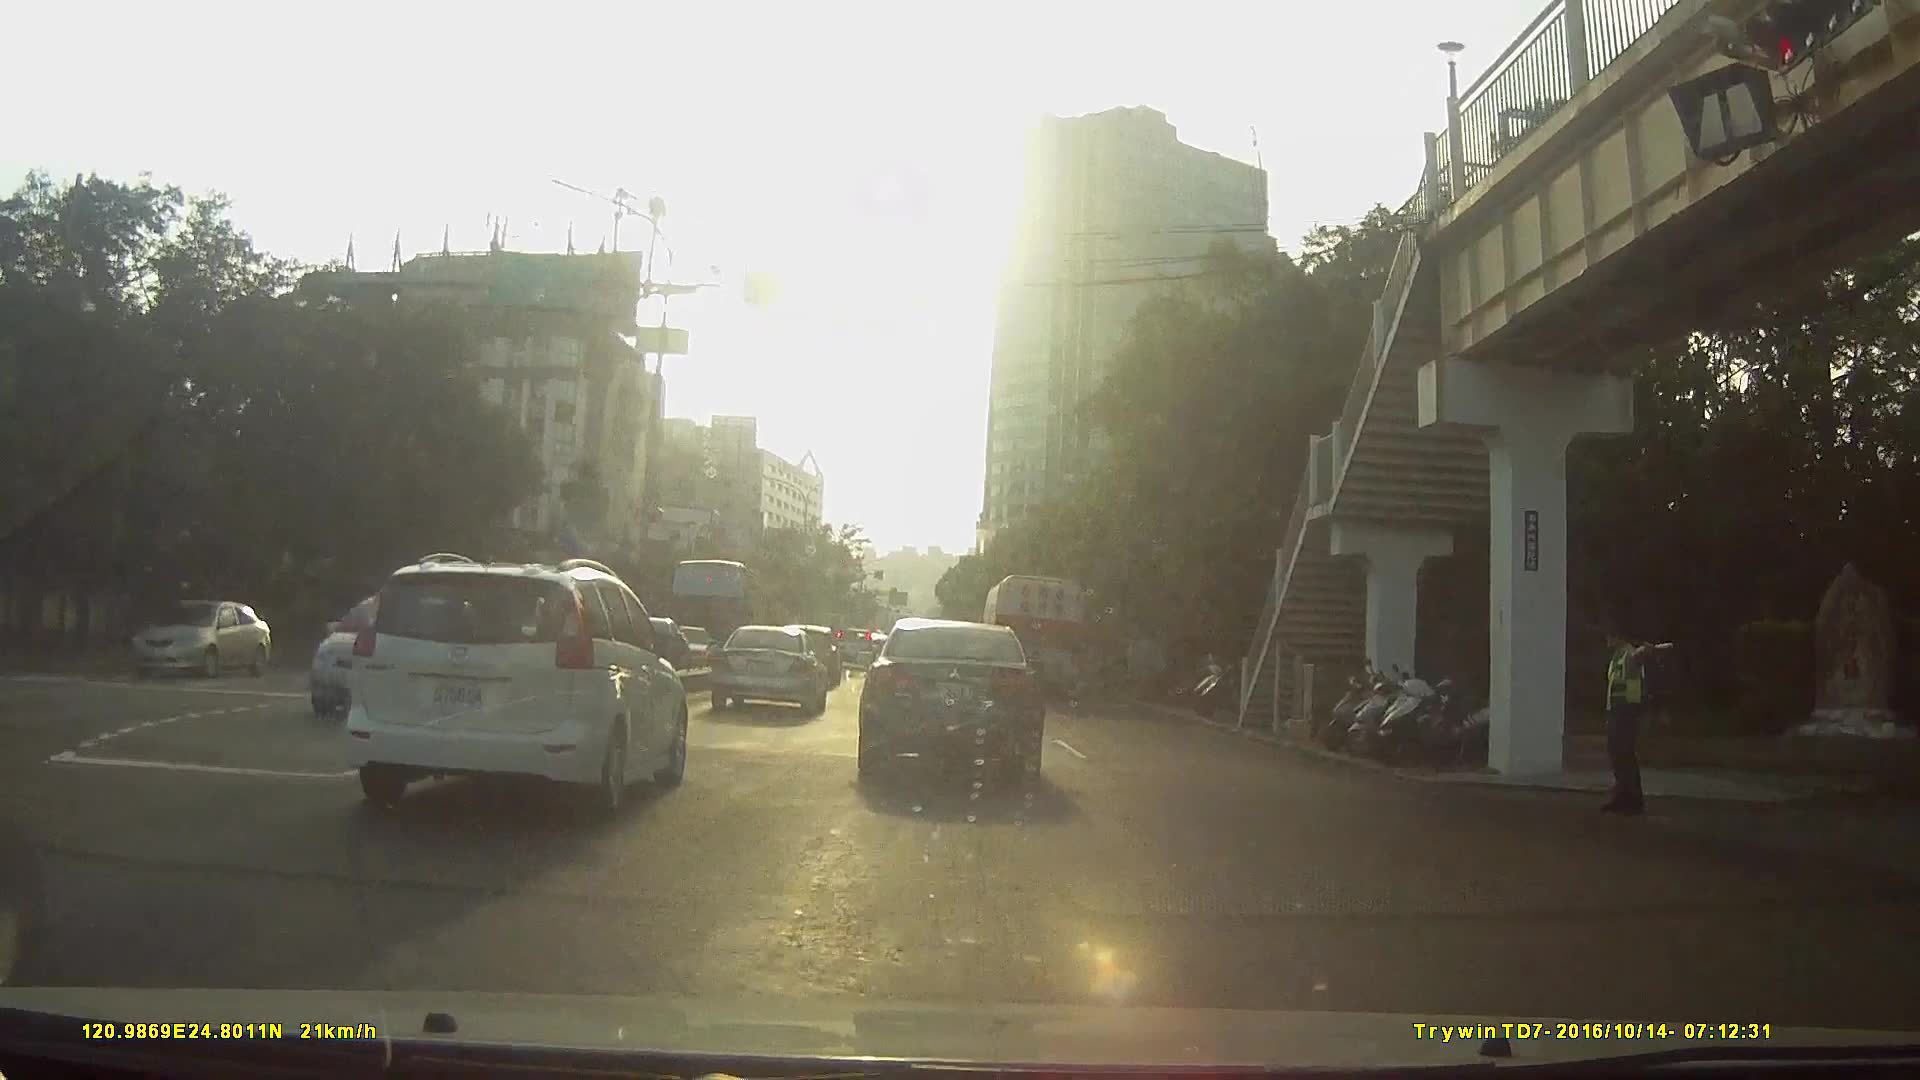pedestrian: (1593, 612, 1679, 815)
vehicle: (250, 556, 684, 868), (349, 551, 691, 816), (855, 612, 1044, 784), (291, 589, 471, 735), (127, 592, 290, 687), (977, 571, 1087, 703), (661, 555, 773, 663), (711, 622, 829, 716), (828, 622, 876, 668)
